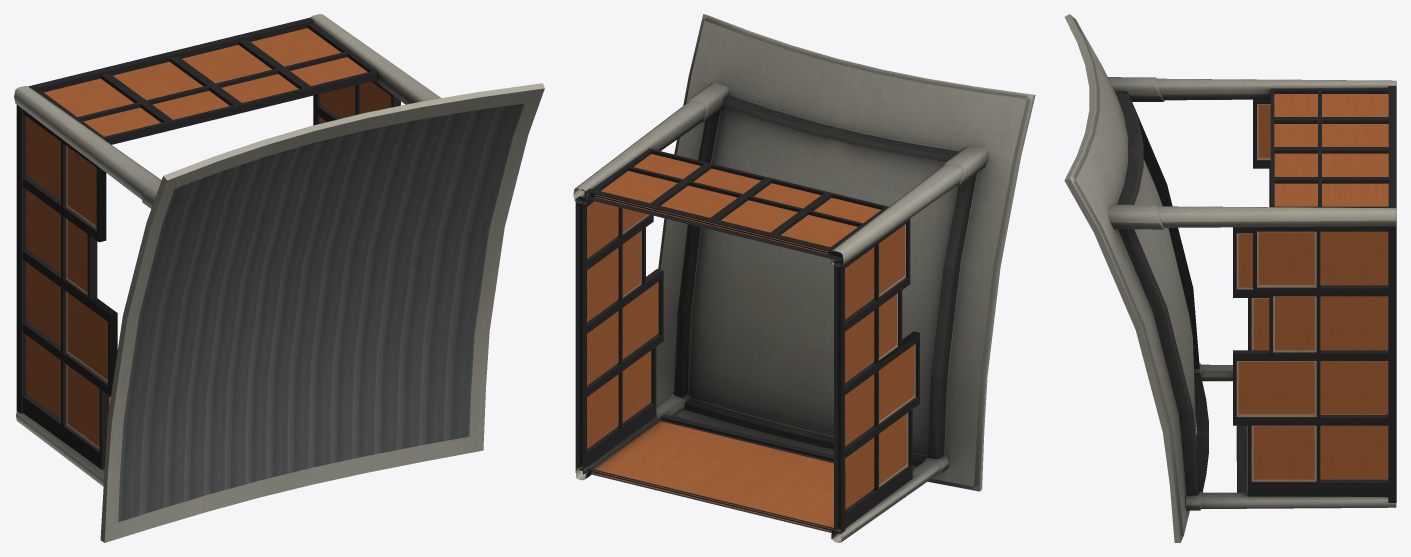
File: nt_hydro_shed_LOD1.obj
The picture shows the model from 3 angles, left to right: view 1: azimuth 30°, elevation 25°; view 2: azimuth 150°, elevation 25°; view 3: azimuth 270°, elevation 25°; orthographic projection. The views are drawn at different scales.
Parts seen in each view (by area): view 1: metal_corrugated_wide_bars, mtl_nt_hydro_shed, nt_2020_wall_sm_orange_ext, com_metal_chrome_trim, metal_copper_bronze_fine_editor; view 2: mtl_nt_hydro_shed, nt_2020_wall_sm_orange_ext, com_metal_chrome_trim, metal_copper_bronze_fine_editor; view 3: mtl_nt_hydro_shed, nt_2020_wall_sm_orange_ext, com_metal_chrome_trim, metal_copper_bronze_fine_editor.
Boxes of the visible parts, box(x1,y1,x2,y2) form: metal_corrugated_wide_bars: box(118, 103, 524, 522); mtl_nt_hydro_shed: box(14, 14, 544, 542); nt_2020_wall_sm_orange_ext: box(26, 28, 391, 447); com_metal_chrome_trim: box(16, 17, 400, 469); metal_copper_bronze_fine_editor: box(66, 145, 107, 449); mtl_nt_hydro_shed: box(573, 14, 1035, 542); nt_2020_wall_sm_orange_ext: box(587, 154, 914, 509); com_metal_chrome_trim: box(575, 148, 919, 537); metal_copper_bronze_fine_editor: box(622, 214, 915, 486); mtl_nt_hydro_shed: box(1064, 14, 1396, 542); nt_2020_wall_sm_orange_ext: box(1238, 94, 1388, 479); com_metal_chrome_trim: box(1233, 82, 1396, 502); metal_copper_bronze_fine_editor: box(1236, 104, 1316, 481).
Size of the model in its own units: 517 by 533 by 440.
